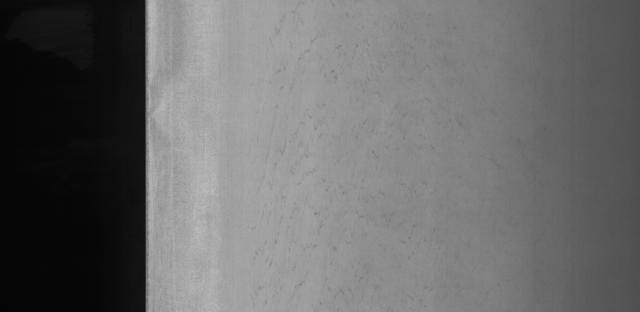silk_spot: (264, 30, 380, 293)
